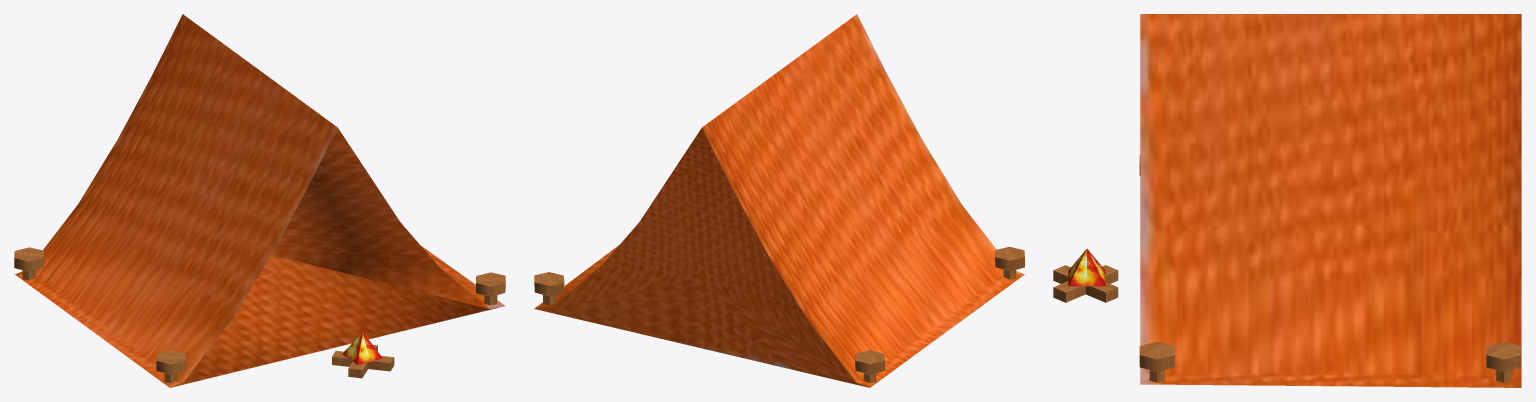
Rendered from cuartelNivel1.fbx.
3 views of the same model, side by side, from view 1: azimuth 30°, elevation 25°; view 2: azimuth 150°, elevation 25°; view 3: azimuth 270°, elevation 25° (orthographic). The views are drawn at different scales.
Parts seen in each view (by area): view 1: Prism001, Cylinder004, Cylinder001, Cylinder003, Box006, Box004; view 2: Prism001, Cylinder002, Cylinder003, Cylinder004; view 3: Prism001, Cylinder002, Cylinder001, Box006, Box005, Box004.
Part boxes in pixels (x1=…): Prism001: x1=15, y1=14, x2=504, y2=387; Cylinder004: x1=156, y1=350, x2=186, y2=382; Cylinder001: x1=476, y1=272, x2=505, y2=305; Cylinder003: x1=14, y1=247, x2=43, y2=280; Box006: x1=342, y1=332, x2=382, y2=364; Box004: x1=332, y1=350, x2=394, y2=371; Prism001: x1=534, y1=14, x2=1024, y2=387; Cylinder002: x1=534, y1=272, x2=564, y2=304; Cylinder003: x1=855, y1=350, x2=884, y2=383; Cylinder004: x1=995, y1=246, x2=1024, y2=279; Prism001: x1=1140, y1=14, x2=1521, y2=387; Cylinder002: x1=1486, y1=341, x2=1521, y2=382; Cylinder001: x1=1139, y1=341, x2=1174, y2=382; Box006: x1=1068, y1=249, x2=1105, y2=286; Box005: x1=1053, y1=265, x2=1118, y2=302; Box004: x1=1053, y1=265, x2=1118, y2=302.
Bounding box in the file's own units: 1.3 × 0.7907 × 1.23.
Materials: 3 (3 with a texture image).
